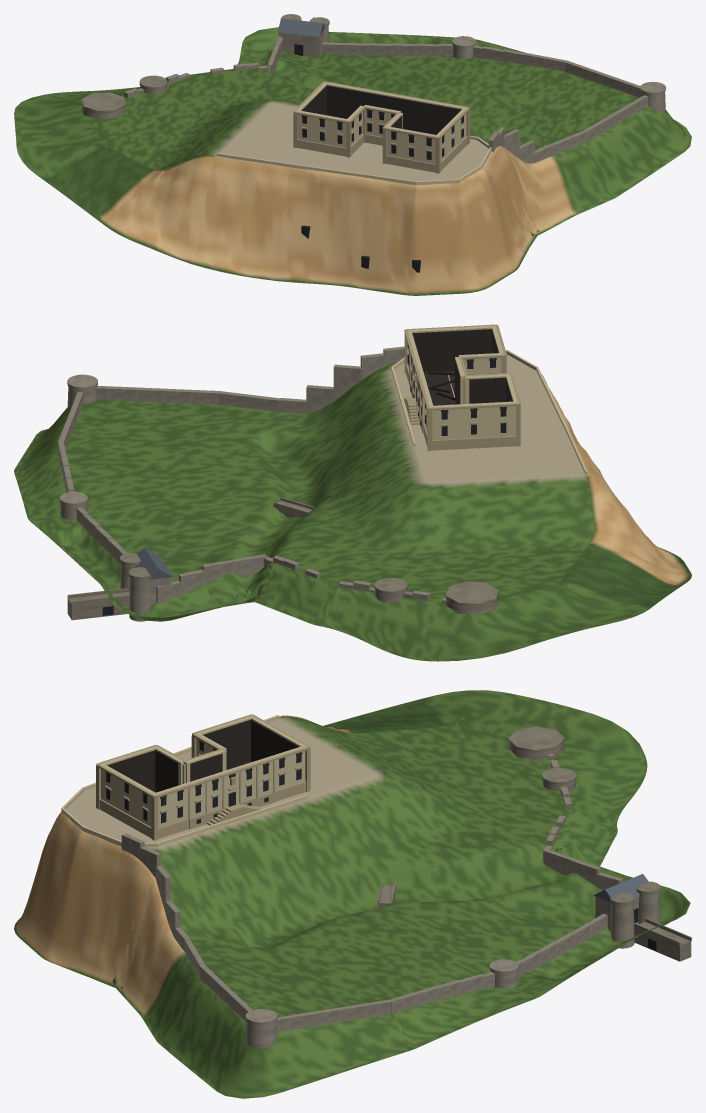
File: nottingham-castle-b70.glb
The picture shows the model from 3 angles, top to bottom: view 1: azimuth 30°, elevation 25°; view 2: azimuth 150°, elevation 25°; view 3: azimuth 270°, elevation 25°; orthographic projection. The views are drawn at different scales.
Bounding box in the file's own units: 25.6 × 5.53 × 20.96.
Materials: 11 (2 with a texture image).
